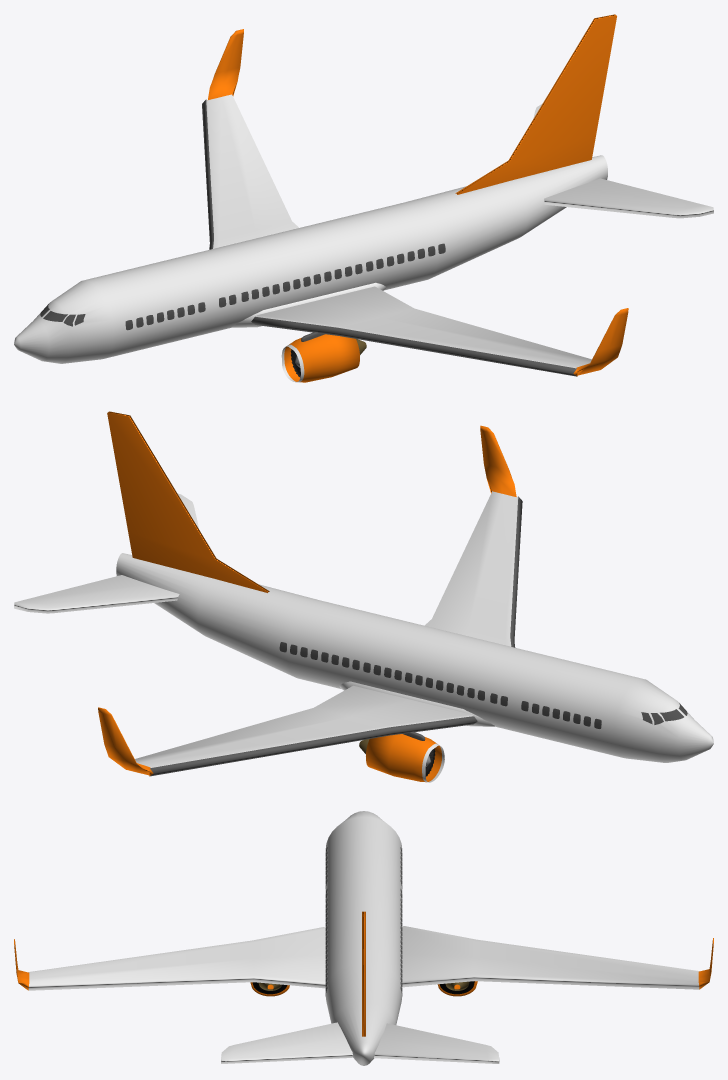
Rendered from  boeing-737.glb.
The picture shows the model from 3 angles, top to bottom: view 1: azimuth 30°, elevation 25°; view 2: azimuth 150°, elevation 25°; view 3: azimuth 270°, elevation 25°; orthographic projection. The views are drawn at different scales.
Visible parts, largest first — view 1: Cylinder_3, Cube.001_6, Cube_5, Cube.002_7, Cube.004_9, Cylinder.001_71, Cylinder.003_73; view 2: Cylinder_3, Cube_5, Cube.001_6, Cube.002_7, Cube.003_8, Cylinder.002_72, Cylinder.003_73; view 3: Cylinder_3, Cube_5, Cube.001_6, Cube.004_9, Cube.003_8, Cube.002_7, Cylinder.002_72, Cylinder.001_71.
Boxes of the visible parts, x1,y1,x2,y2 form: Cylinder_3: (14, 155, 607, 363); Cube.001_6: (251, 286, 628, 376); Cube_5: (202, 29, 298, 249); Cube.002_7: (455, 14, 616, 194); Cube.004_9: (544, 178, 713, 218); Cylinder.001_71: (281, 334, 366, 382); Cylinder.003_73: (231, 282, 385, 327); Cylinder_3: (116, 553, 713, 762); Cube_5: (98, 685, 477, 776); Cube.001_6: (425, 425, 522, 647); Cube.002_7: (107, 411, 269, 592); Cube.003_8: (14, 575, 179, 613); Cylinder.002_72: (359, 734, 444, 782); Cylinder.003_73: (339, 681, 494, 726); Cylinder_3: (325, 811, 402, 1065); Cube_5: (402, 926, 713, 989); Cube.001_6: (14, 927, 325, 990); Cube.004_9: (221, 1022, 352, 1063); Cube.003_8: (374, 1023, 499, 1063); Cube.002_7: (362, 911, 365, 1036); Cylinder.002_72: (437, 981, 477, 996); Cylinder.001_71: (250, 982, 289, 996).
Size of the model in its own units: 32.7 by 12.09 by 34.87.
